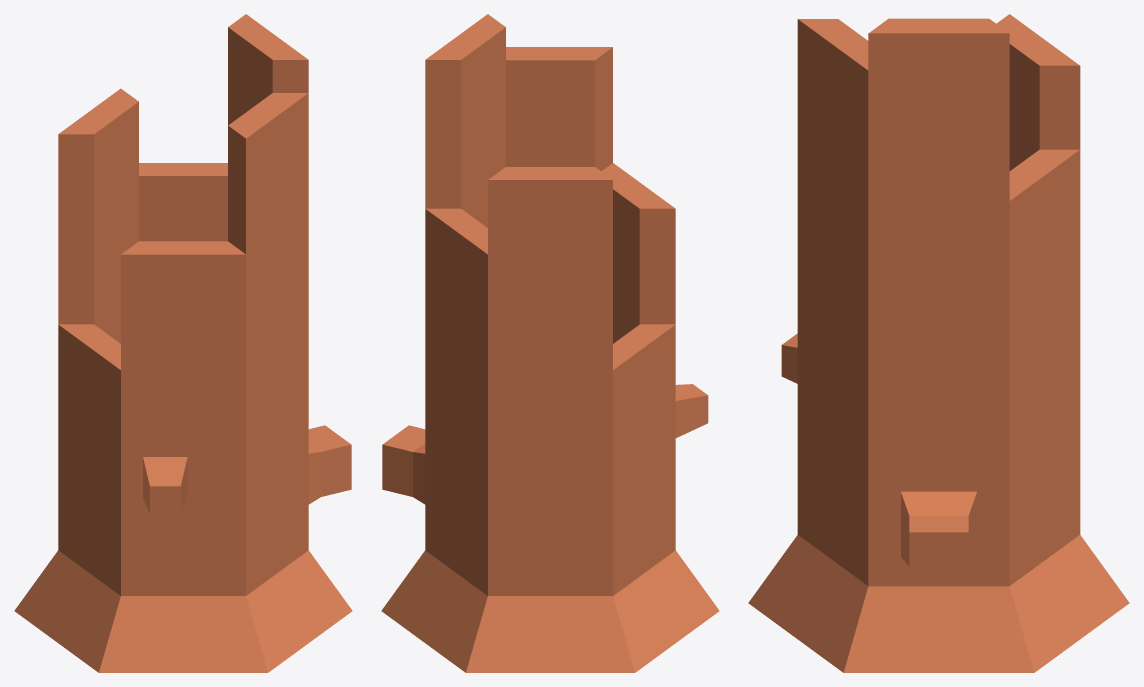
Rendered from d_kenney_souche_haute.glb.
3 renders of one model, left to right at view 1: azimuth 30°, elevation 25°; view 2: azimuth 150°, elevation 25°; view 3: azimuth 270°, elevation 25°, orthographic. The views are drawn at different scales.
Parts seen in each view (by area): view 1: d_kenney_souche_haute; view 2: d_kenney_souche_haute; view 3: d_kenney_souche_haute.
Part boxes in pixels (<box>): d_kenney_souche_haute: <box>14,14,352,672</box>; d_kenney_souche_haute: <box>381,14,719,672</box>; d_kenney_souche_haute: <box>748,14,1129,672</box>.
Bounding box in the file's own units: 0.3566 × 0.6665 × 0.371.
Materials: 1 (1 with a texture image).
